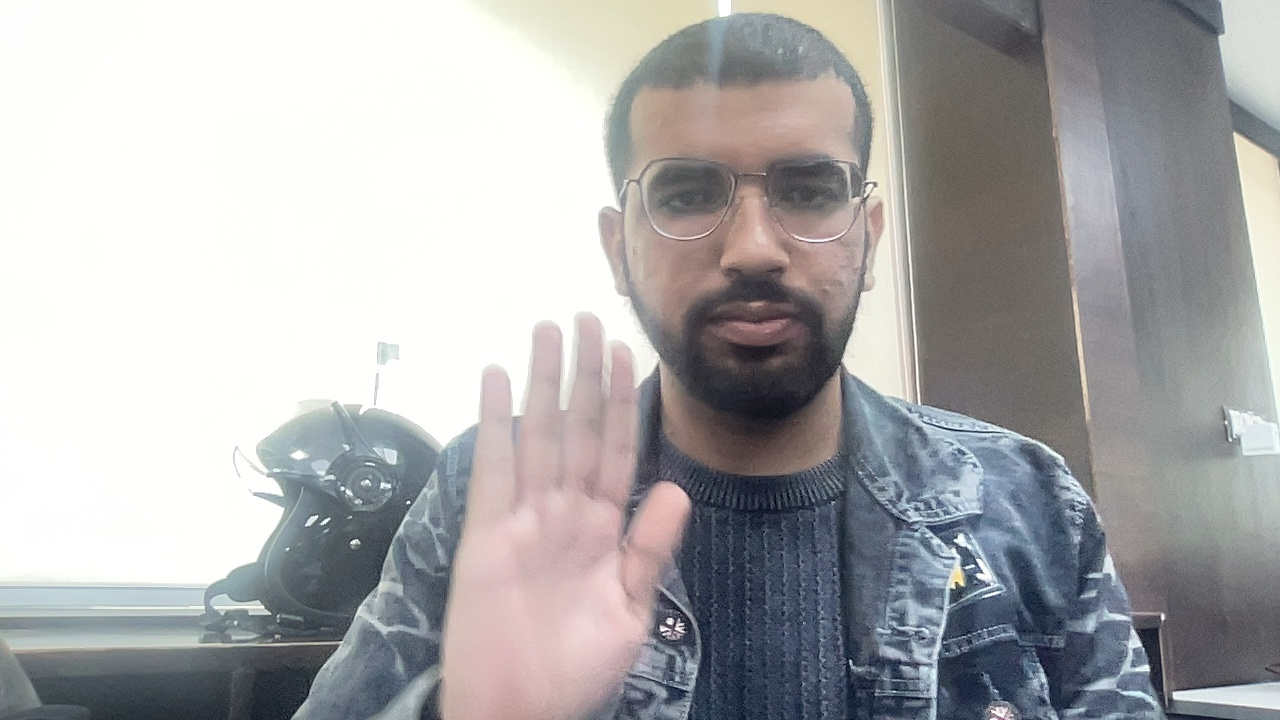Hello: (416, 309, 712, 720)
